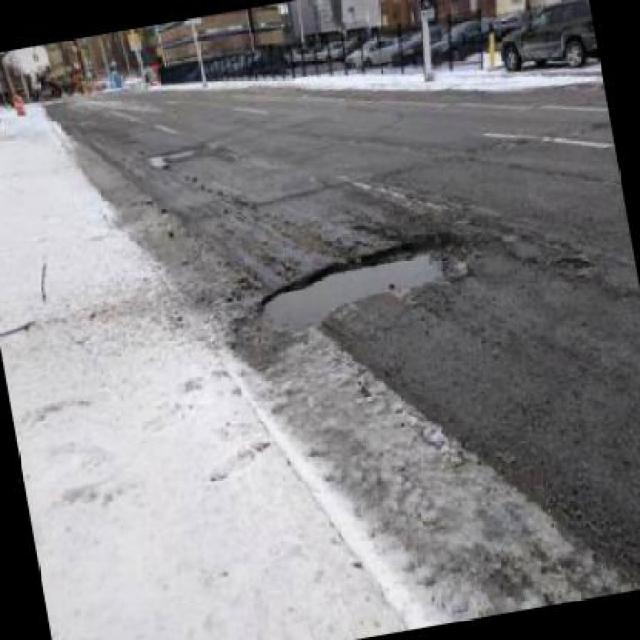pothole1: (247, 227, 476, 333)
